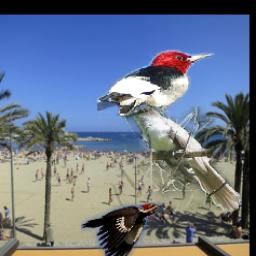Cuckoo: (123, 107, 241, 212)
Woodpecker: (98, 51, 216, 118), (81, 203, 165, 256)
